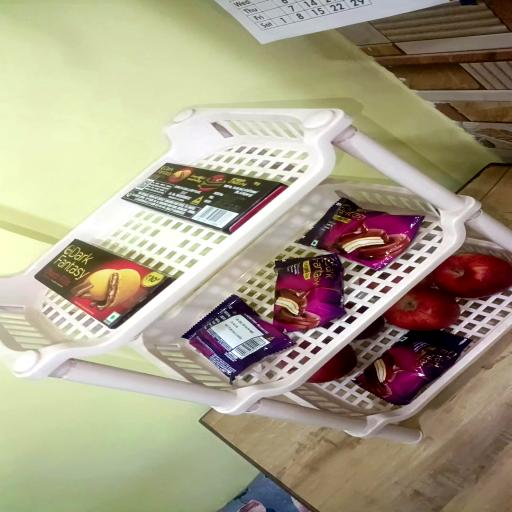Apple: (433, 253, 512, 298), (383, 288, 460, 331), (306, 346, 357, 383), (355, 316, 385, 340)
Choco Fills: (35, 239, 174, 329), (122, 163, 286, 234)
Choco Pie: (182, 295, 294, 382), (297, 198, 424, 270), (353, 330, 470, 406), (273, 253, 345, 334)
